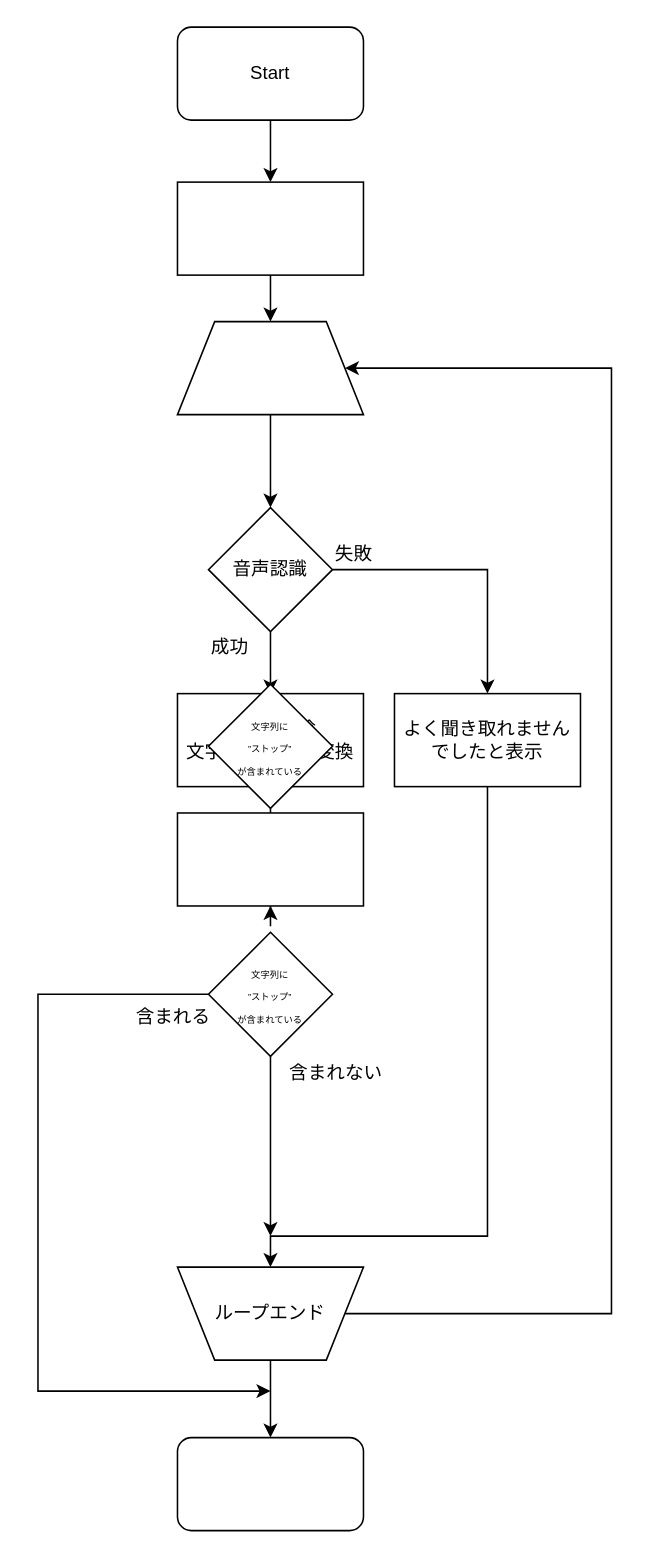
The diagram is 651 pixels wide and 1558 high, and some of its shapes have lost their labels. The box of each missing label's shape, as (x1, y1, x2, y2) in pixels:
End: (176, 1436, 363, 1531)
Library import: (176, 181, 363, 275)
ループスタート: (176, 320, 363, 415)
文字列の形態素分析: (176, 811, 363, 906)
